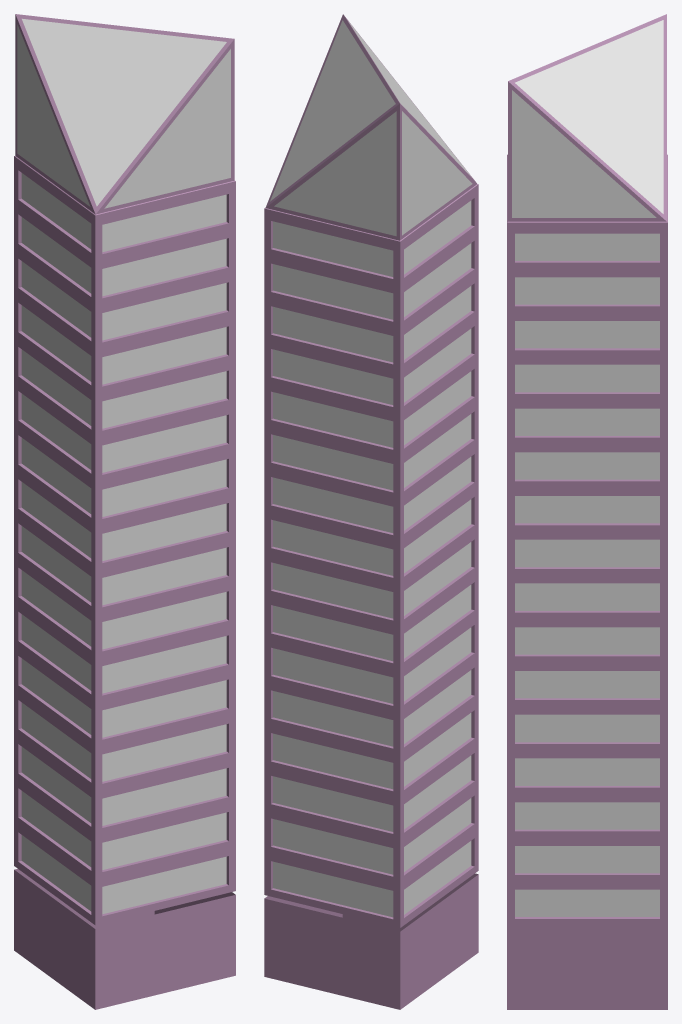
The model's file is city_skyscraper_1.fbx.
3 renders of one model, left to right at view 1: azimuth 30°, elevation 25°; view 2: azimuth 150°, elevation 25°; view 3: azimuth 270°, elevation 25°, orthographic. The views are drawn at different scales.
Visible parts, largest first — view 1: city_skyscraper_1; view 2: city_skyscraper_1; view 3: city_skyscraper_1.
Boxes of the visible parts, box(x1,y1,x2,y2) form: city_skyscraper_1: box(14, 14, 235, 1009); city_skyscraper_1: box(264, 14, 478, 1009); city_skyscraper_1: box(507, 14, 667, 1009).
Size of the model in its own units: 2000 by 2000 by 12734.
